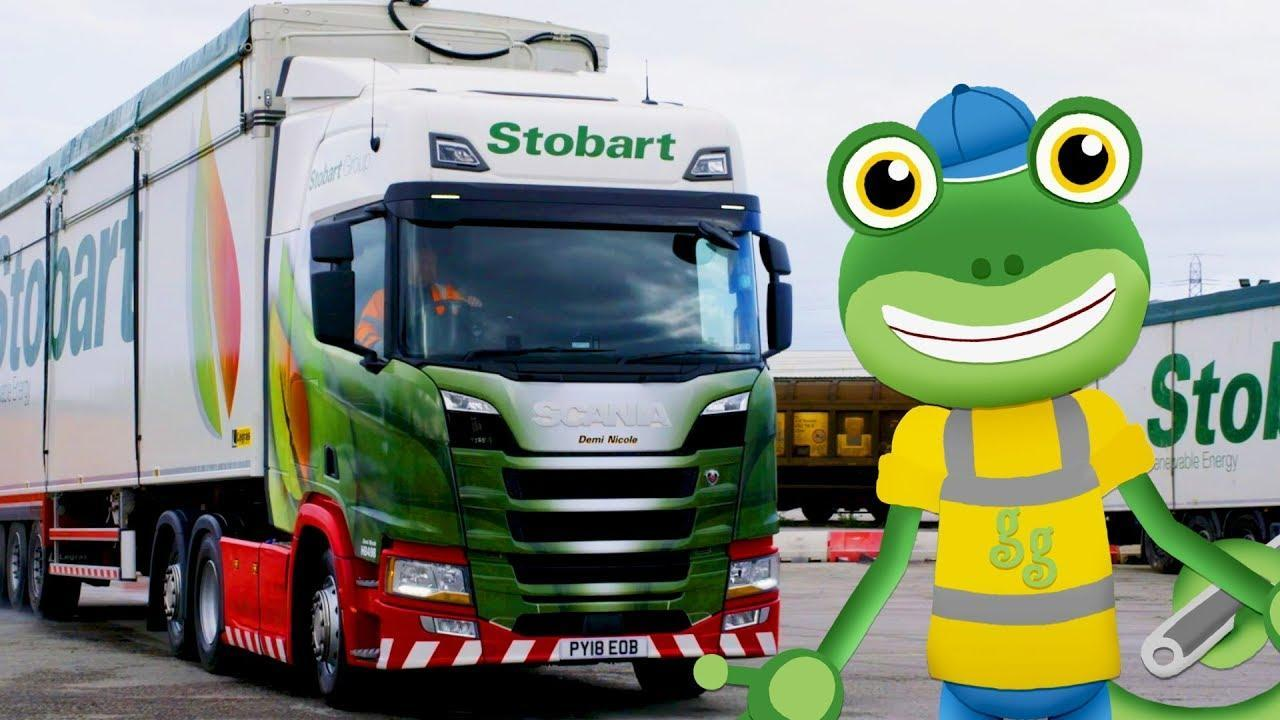truck: (1, 4, 793, 709)
